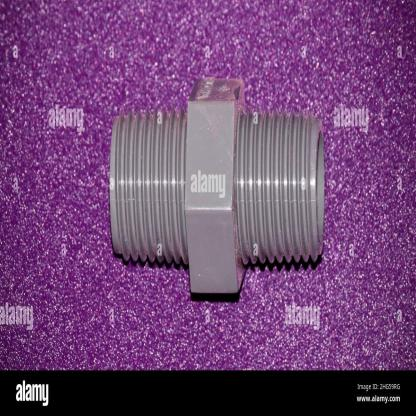PVC: (109, 75, 331, 296)
